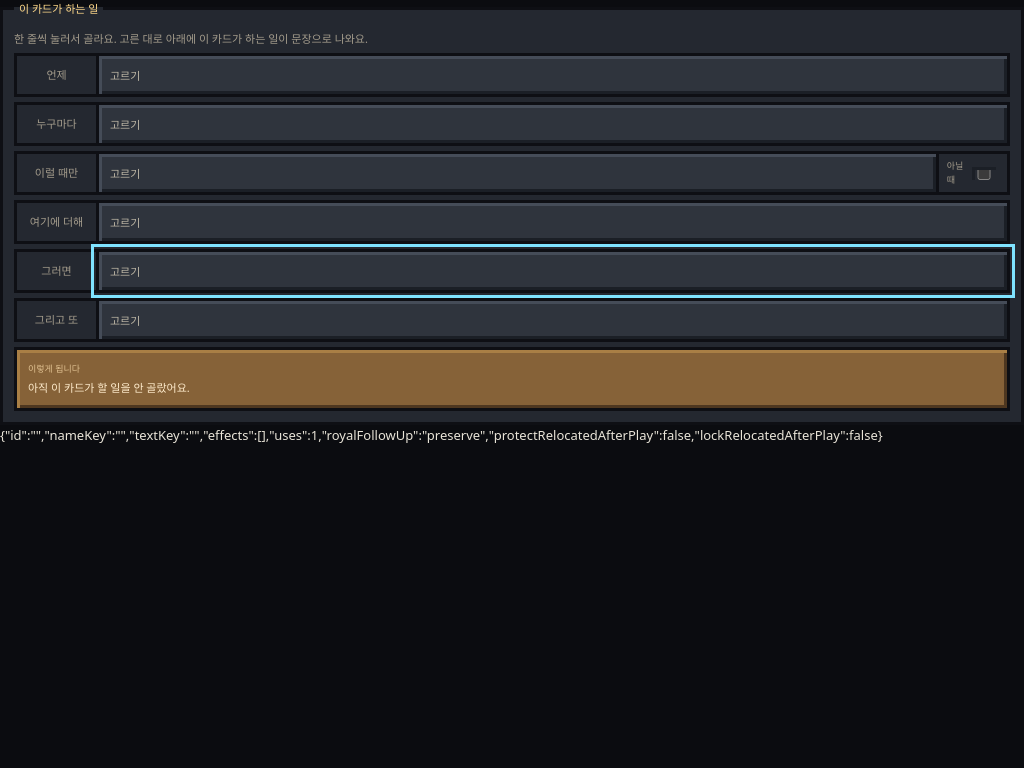
Phase 2 — every parameter has a home in its slot sheet (ADR-004/007) › then → block_capture carries s-param-duration (how long it lasts)
Click the button with test id "slot-then". click: (125, 271)
box: [96,249,1010,293]
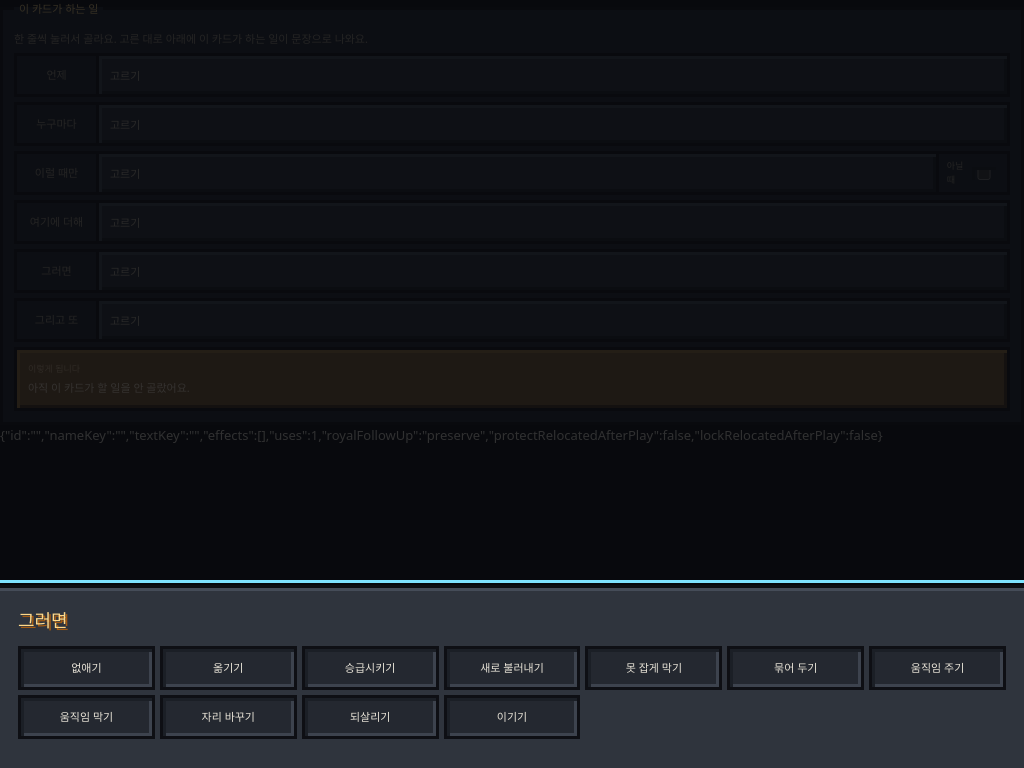
Click the button "못 잡게 막기". click: (654, 668)
box: [585,646,722,690]
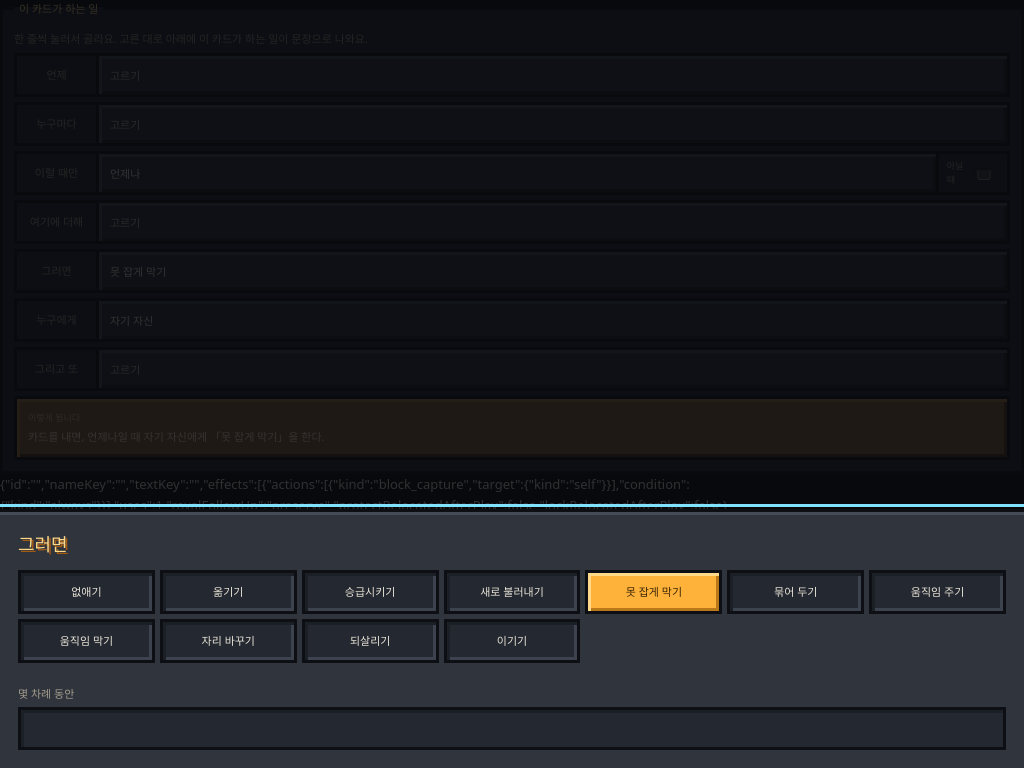
Expected: the number field with test id "s-param-duration" is shown, [18,707,1006,750]
